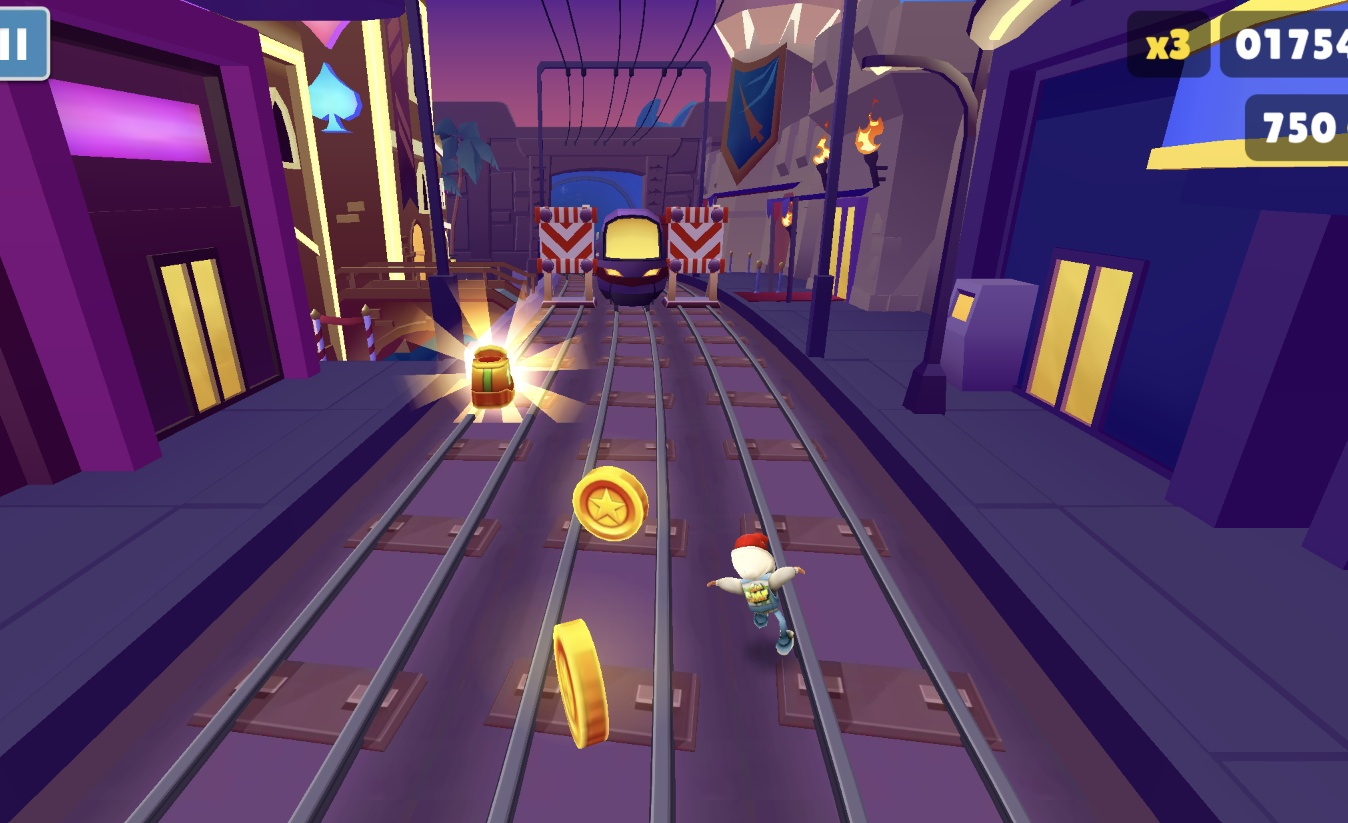overhead_barrier: (662, 203, 729, 306), (530, 204, 596, 306)
train: (595, 208, 668, 310)
